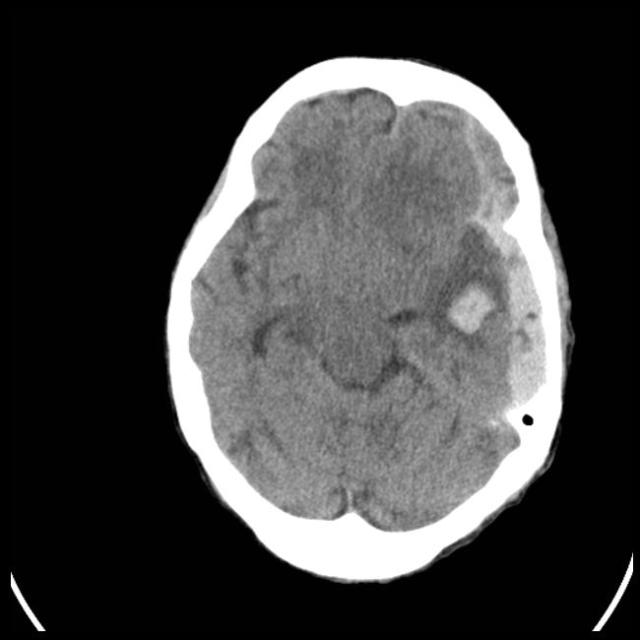lesion: (162, 57, 575, 583)
